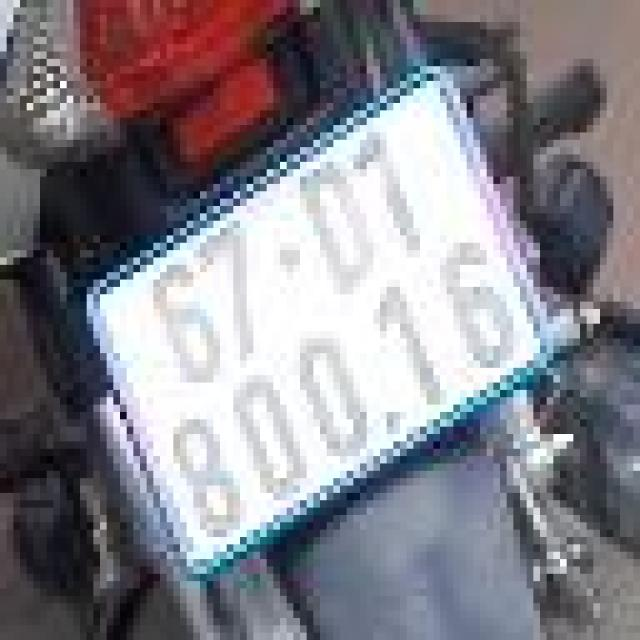0: (272, 320, 386, 480), (224, 357, 323, 516)
1: (351, 120, 445, 272), (364, 283, 456, 417)
6: (136, 259, 237, 399), (435, 234, 530, 376)
7: (186, 210, 277, 369)
8: (168, 403, 260, 562)
D: (287, 153, 390, 312)
